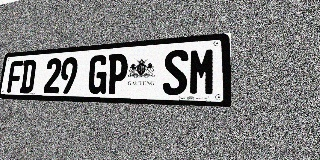2: (43, 58, 62, 93)
9: (59, 57, 78, 94)
D: (19, 59, 37, 93)
F: (7, 60, 23, 93)
G: (87, 55, 108, 94)
M: (188, 47, 216, 96)
P: (106, 53, 128, 94)
S: (162, 49, 188, 95)
